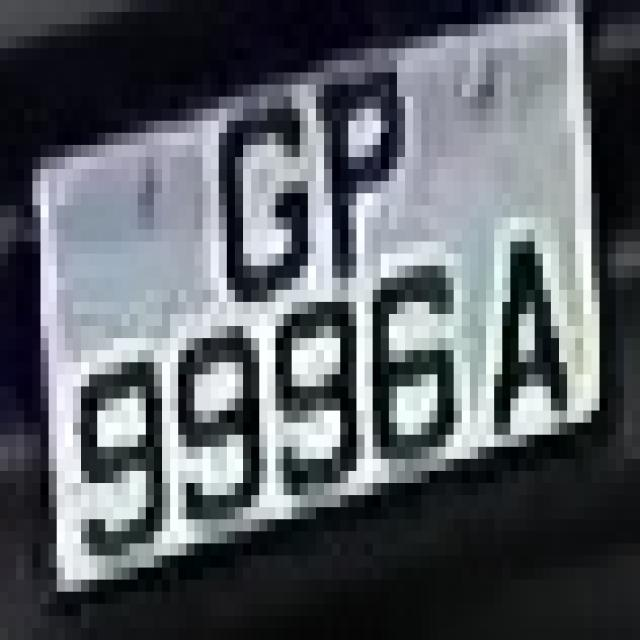6: (348, 229, 478, 483)
9: (235, 290, 373, 567), (73, 350, 178, 592), (178, 326, 259, 519)
A: (462, 241, 583, 471)
G: (186, 72, 308, 302)
P: (292, 60, 413, 266)
